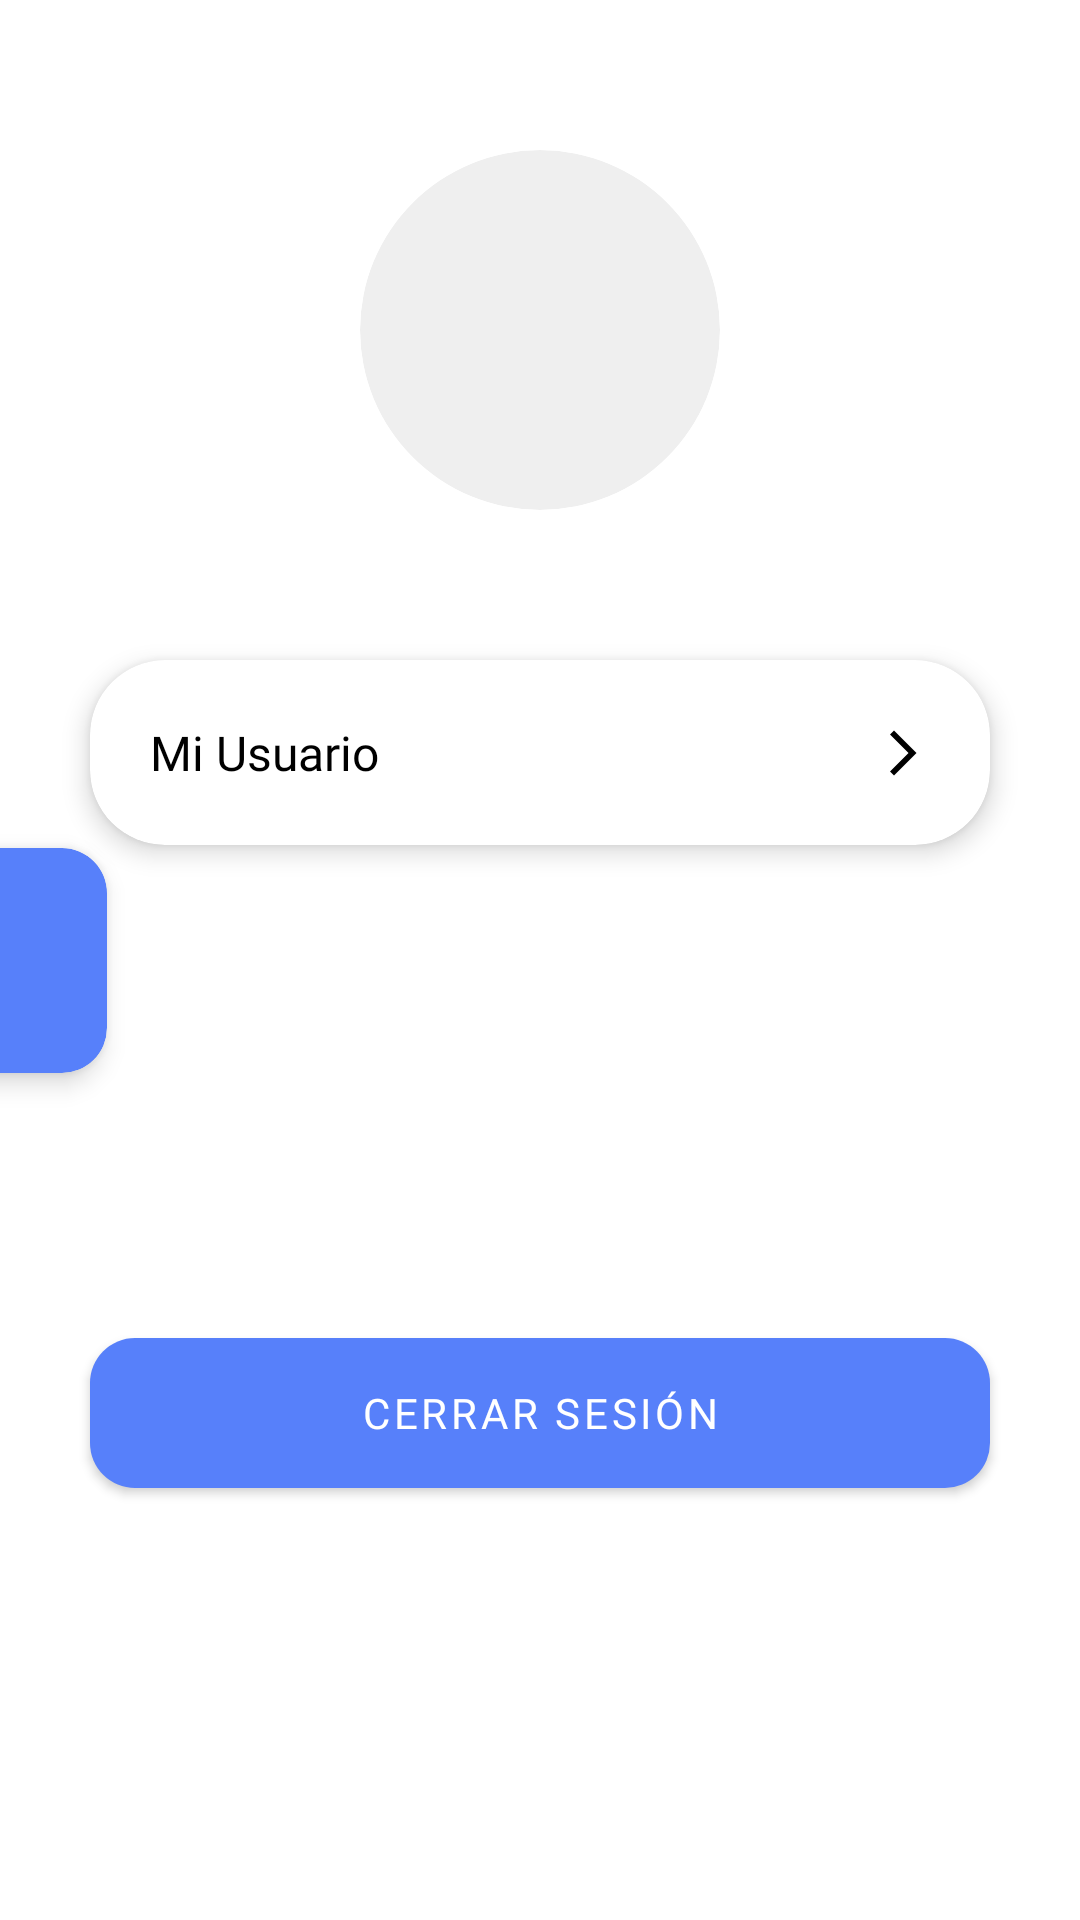

Where to tap for icons on this 1080 x 1920 app screen, as (x=x, y=y):
arrow forward: (x=903, y=753)
